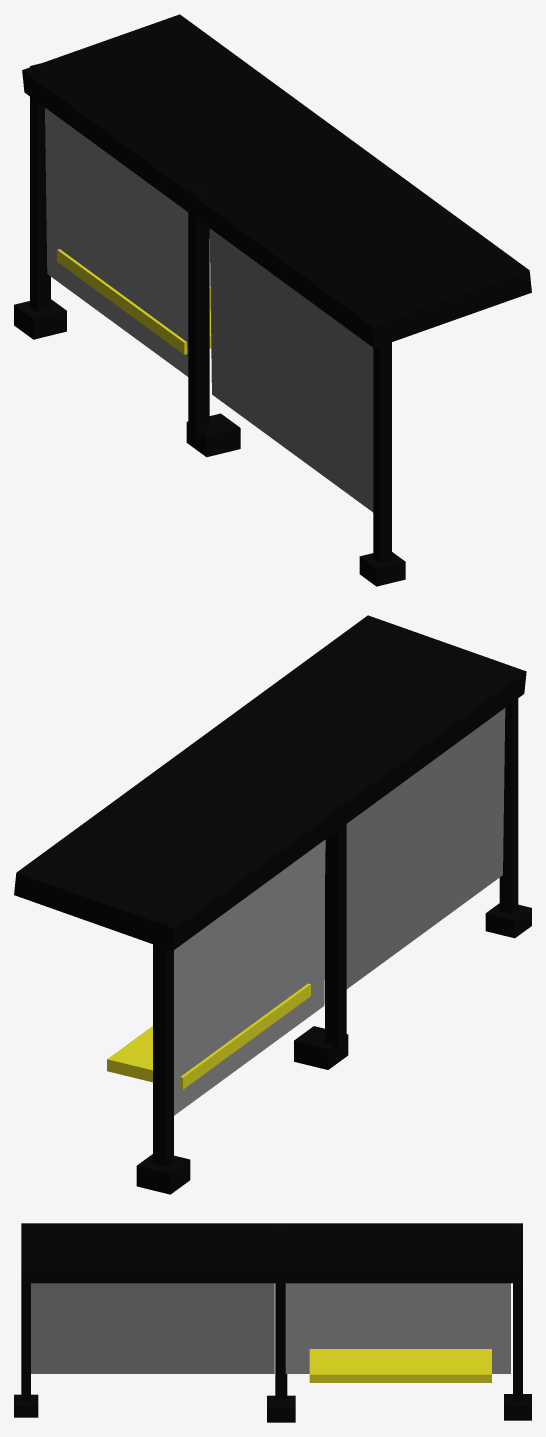
Rendered from Corach_Máximo_48313083.fbx.
3 views of the same model, one above another, from view 1: azimuth 30°, elevation 25°; view 2: azimuth 150°, elevation 25°; view 3: azimuth 270°, elevation 25° (orthographic). The views are drawn at different scales.
Visible parts, largest first — view 1: Cube.003, Plane, Plane.001, Cube.001, Cube.012, Cube.004, Cube.002, Cube.006, Cube.019, Cube.015; view 2: Cube.003, Plane, Plane.001, Cube.004, Cube.001, Cube.002, Cube.012, Cube.019, Cube.006, Cube.015; view 3: Cube.003, Plane, Plane.001, Cube.002, Cube.001, Cube.004, Cube.012, Cube.006, Cube.019, Cube.015.
Part boxes in pixels (box(x1,y1,x2,y2)): Cube.003: box(22, 14, 531, 348); Plane: box(209, 228, 373, 512); Plane.001: box(45, 108, 188, 376); Cube.001: box(188, 186, 209, 438); Cube.012: box(373, 318, 391, 562); Cube.004: box(30, 63, 50, 311); Cube.002: box(57, 249, 211, 354); Cube.006: box(186, 413, 240, 457); Cube.019: box(14, 299, 66, 339); Cube.015: box(359, 552, 405, 586); Cube.003: box(14, 615, 526, 950); Plane: box(346, 708, 505, 988); Plane.001: box(174, 839, 325, 1115); Cube.004: box(153, 916, 173, 1166); Cube.001: box(325, 798, 346, 1051); Cube.002: box(107, 983, 310, 1089); Cube.012: box(499, 668, 518, 914); Cube.019: box(136, 1154, 190, 1194); Cube.006: box(294, 1026, 348, 1069); Cube.015: box(485, 903, 531, 938); Cube.003: box(21, 1223, 522, 1283); Plane: box(31, 1283, 274, 1373); Plane.001: box(285, 1283, 510, 1373); Cube.002: box(309, 1349, 491, 1382); Cube.001: box(275, 1223, 287, 1398); Cube.004: box(513, 1224, 522, 1402); Cube.012: box(21, 1225, 30, 1401); Cube.006: box(267, 1395, 295, 1422); Cube.019: box(504, 1394, 531, 1420); Cube.015: box(14, 1394, 38, 1417).
Bounding box in the file's own units: 220 × 360 × 850.
